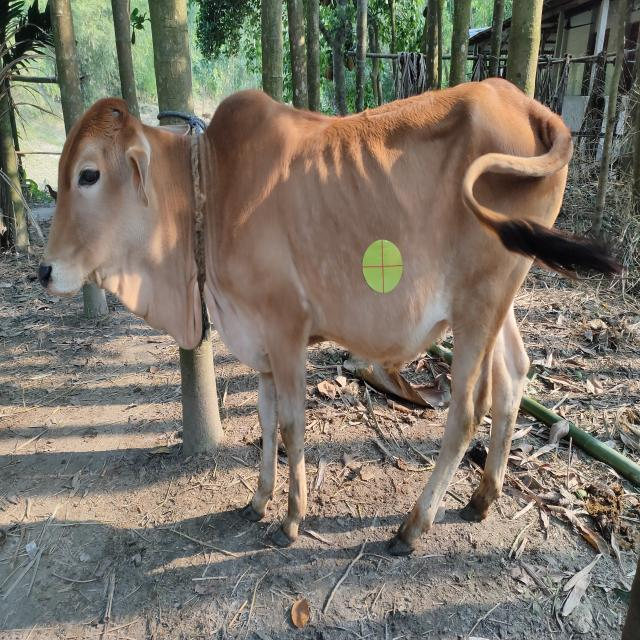badan_sapi: (210, 99, 574, 371)
sapi: (35, 73, 581, 575)
